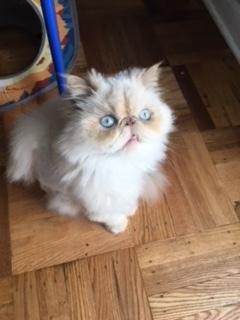persian: (59, 61, 174, 169)
